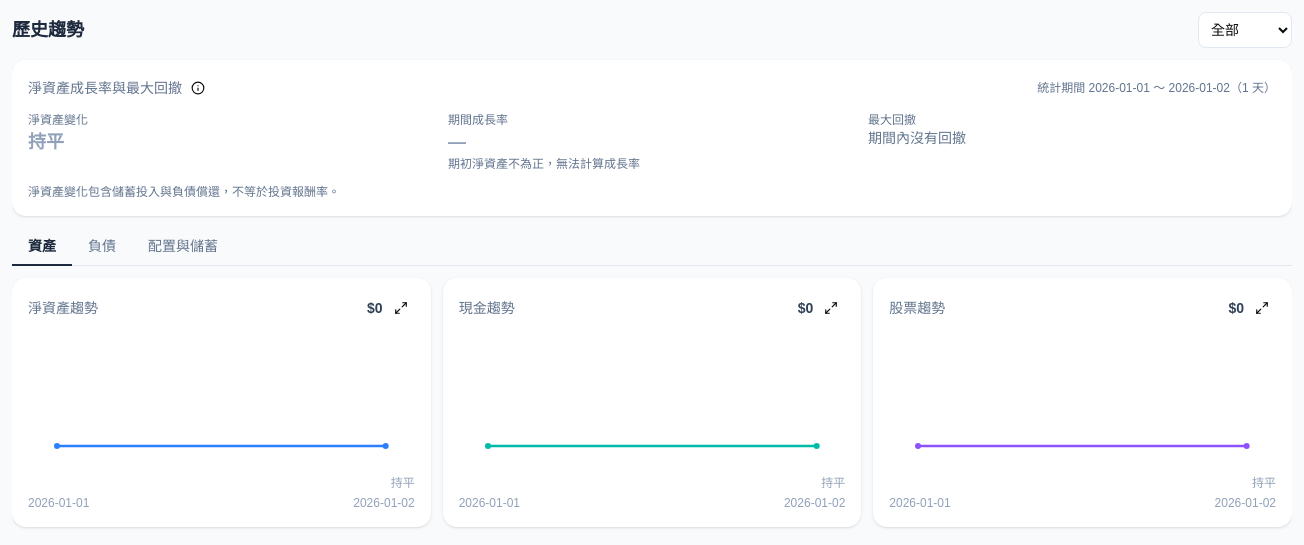
it: TrendSection › 分組分頁 › 切換到「負債」分頁後依序顯示負債比、資產負債對比、每月應還款
Press the mouse on the tab "負債" at (102, 247), box [72,228,132,266]
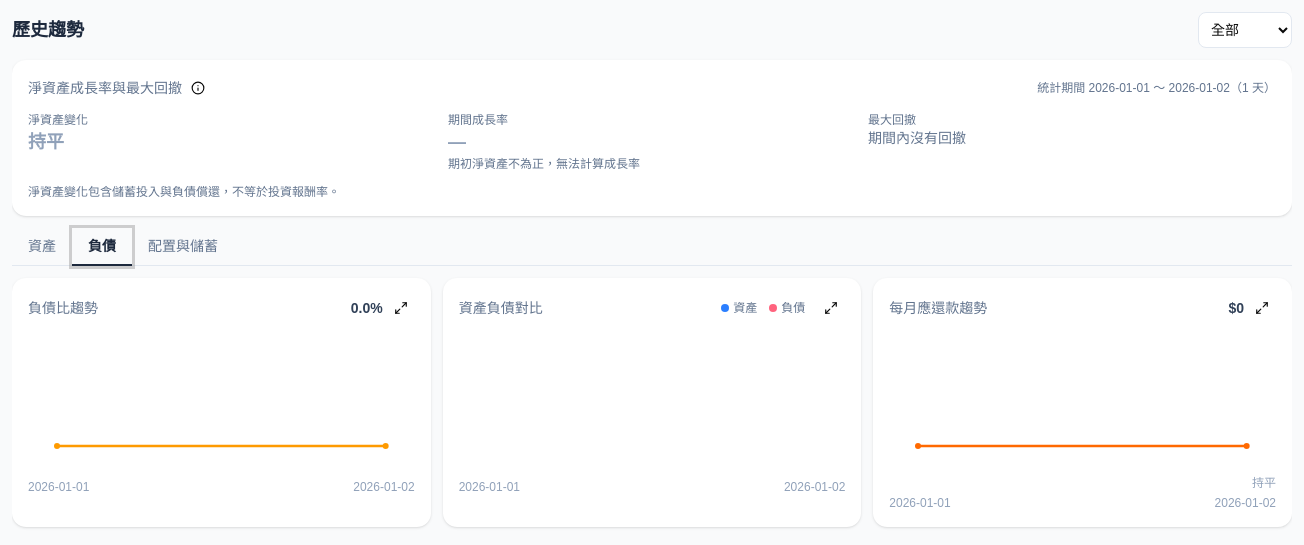
Expected: the panel "負債" is shown, [12,278,1292,527]
Expected: the text "淨資產趨勢" is gone
Expected: the text "現金趨勢" is gone
